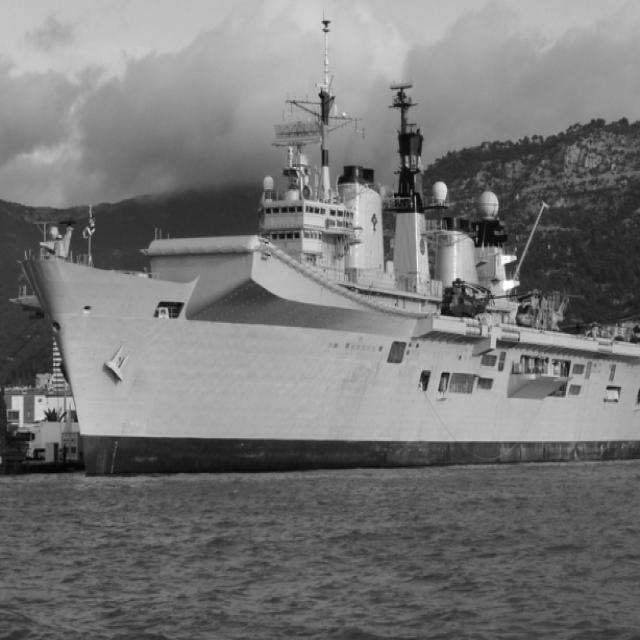Portanaves: (13, 35, 640, 486)
